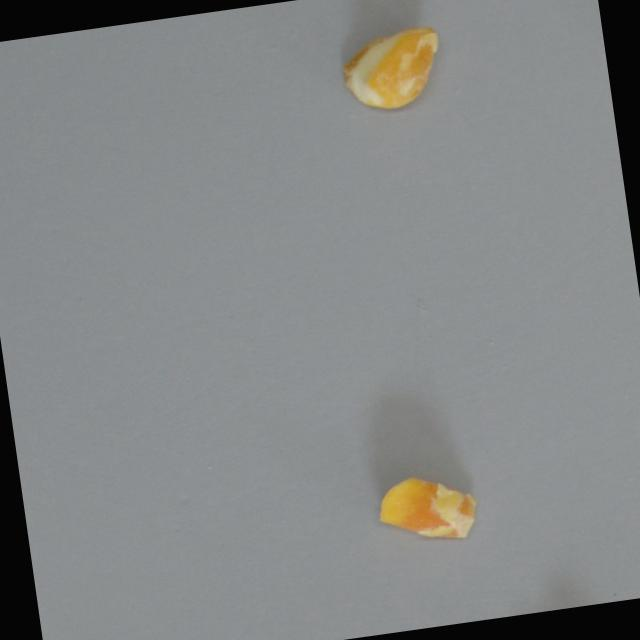pelicula: (334, 21, 448, 116), (371, 465, 482, 553)
